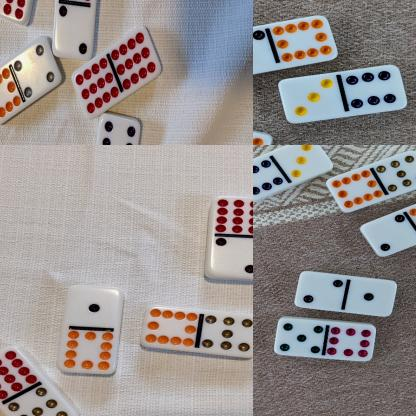pip-1: (66, 284, 123, 329), (347, 280, 399, 315)
pip-10: (270, 15, 339, 63), (58, 326, 116, 375), (327, 170, 385, 214), (142, 306, 199, 350), (0, 65, 22, 127)
pip-12: (112, 23, 162, 90), (74, 56, 120, 117), (0, 346, 39, 398), (213, 195, 253, 233), (0, 0, 34, 19)
pip-2: (360, 213, 416, 257), (53, 4, 95, 56), (295, 270, 346, 311), (208, 236, 253, 280), (253, 25, 271, 78)
pip-3: (280, 72, 342, 123), (279, 145, 333, 177)
pip-4: (14, 36, 61, 98)
pip-5: (273, 317, 326, 355)
pip-6: (342, 64, 408, 112), (253, 158, 284, 202), (99, 115, 142, 145)
pip-7: (198, 313, 253, 357), (9, 386, 76, 416), (376, 150, 416, 191)
pip-8: (326, 323, 378, 360)
